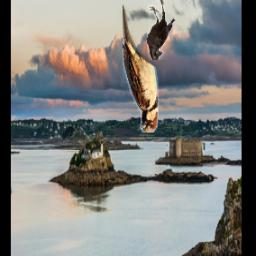Crow: (147, 0, 176, 61)
Swallow: (122, 6, 159, 134)
